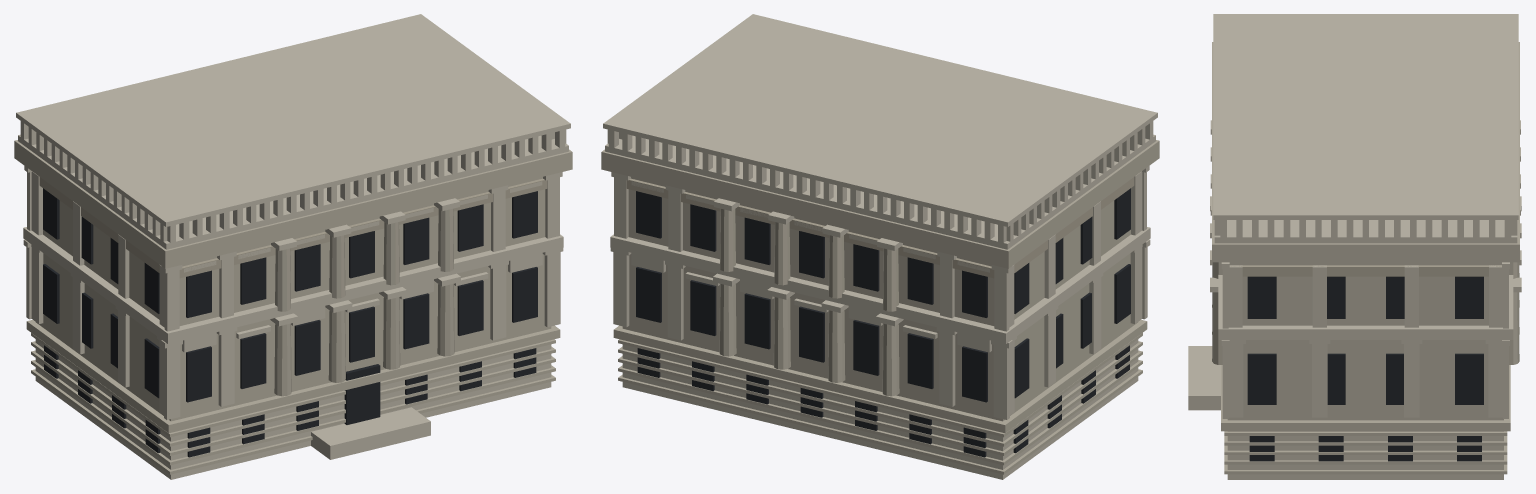
The model's file is banqueting_house.glb.
3 renders of one model, left to right at view 1: azimuth 30°, elevation 25°; view 2: azimuth 150°, elevation 25°; view 3: azimuth 270°, elevation 25°, orthographic.
Visible parts, largest first — view 1: banqueting_house; view 2: banqueting_house; view 3: banqueting_house.
Part boxes in pixels (x1,y1,x2,y2): banqueting_house: (14,14,572,479); banqueting_house: (601,14,1159,479); banqueting_house: (1188,14,1521,479).
Bounding box in the file's own units: 36.4 × 22.9 × 25.35.
